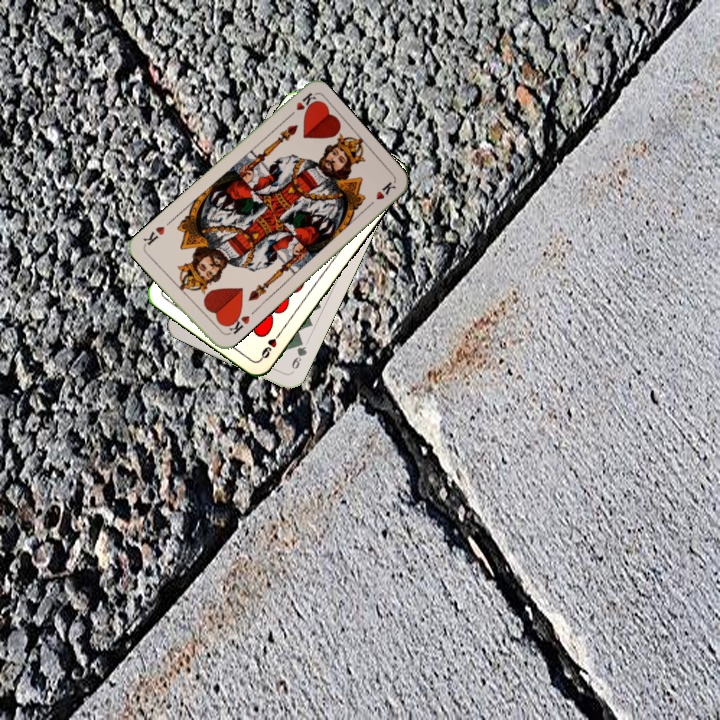G9: (286, 336, 309, 376)
H9: (256, 327, 284, 362)
HK: (282, 89, 319, 122), (221, 307, 252, 338)
